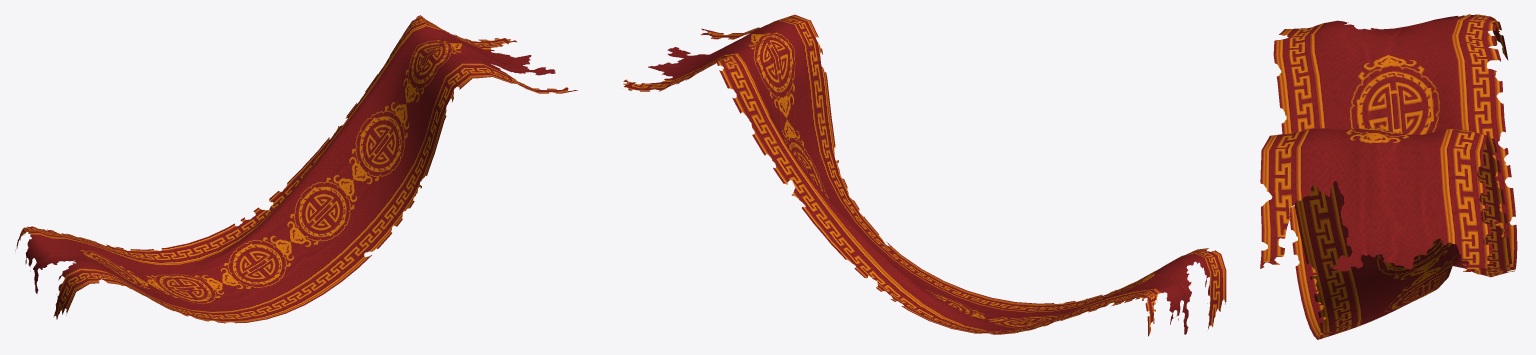
File: SM_Cutout_Carpet_Purple_Saggy.fbx
3 views of the same model, side by side, from view 1: azimuth 30°, elevation 25°; view 2: azimuth 150°, elevation 25°; view 3: azimuth 270°, elevation 25° (orthographic). The views are drawn at different scales.
Parts seen in each view (by area): view 1: SM_Cutout_Carpet_Purple_Saggy_LOD0; view 2: SM_Cutout_Carpet_Purple_Saggy_LOD0; view 3: SM_Cutout_Carpet_Purple_Saggy_LOD0.
Boxes of the visible parts, x1=… form: SM_Cutout_Carpet_Purple_Saggy_LOD0: x1=15, y1=15, x2=577, y2=323; SM_Cutout_Carpet_Purple_Saggy_LOD0: x1=623, y1=14, x2=1226, y2=336; SM_Cutout_Carpet_Purple_Saggy_LOD0: x1=1260, y1=14, x2=1517, y2=339.
Bounding box in the file's own units: 956 × 278 × 382.
1 material, 1 textured.
